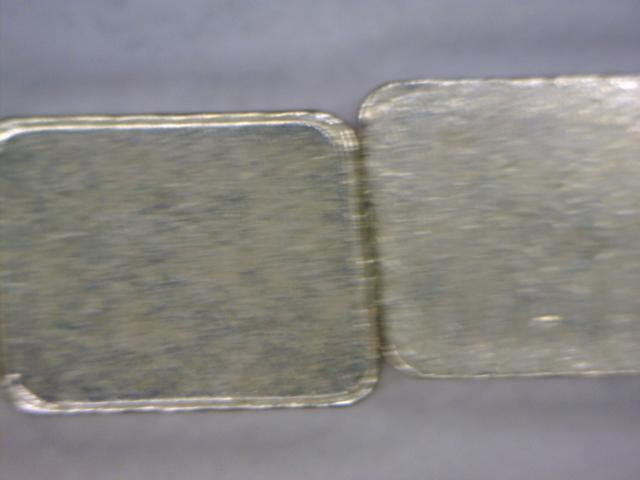nok: (7, 71, 371, 429)
